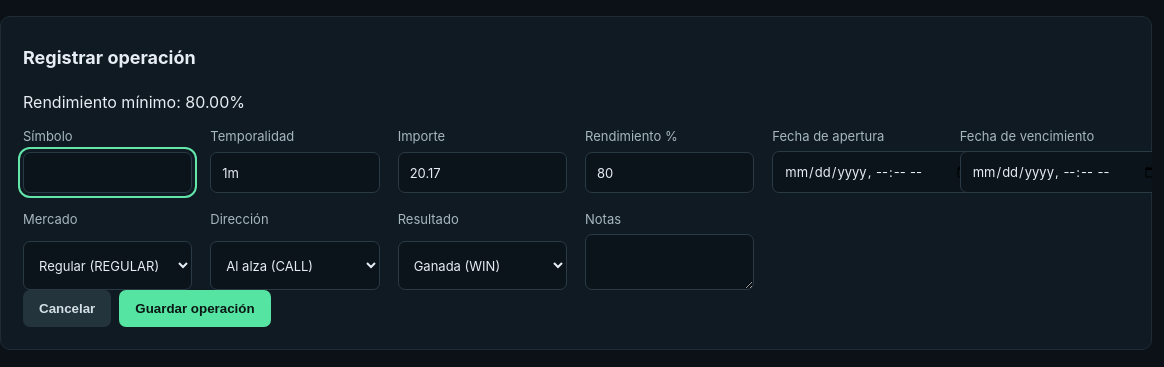
Test: REQ-002 user workflow › Guardar operación label disappears while mutation is pending, before form completion
Type "EURUSD" into the field labelled "Símbolo".
click(108, 172); type("EURUSD")  # box [23,152,192,193]
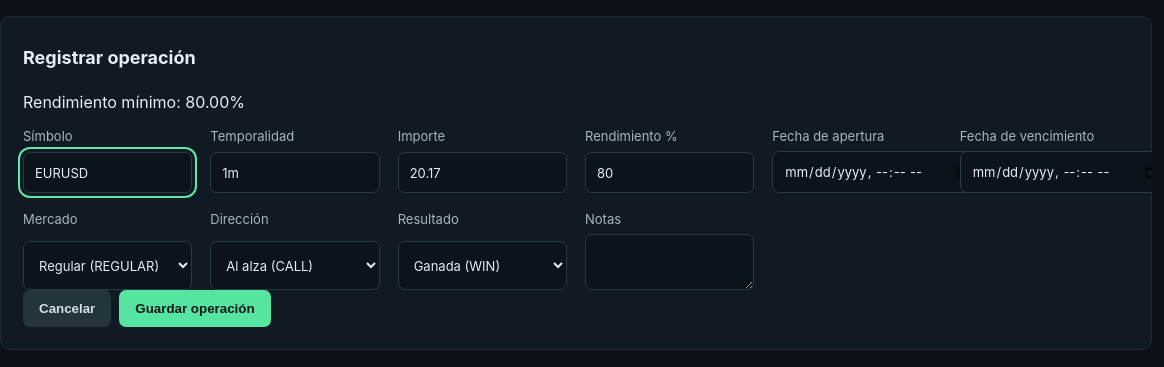
Type "2026-09-19T10:00" into the field labelled "Fecha de apertura".
click(878, 172); type("2026-09-19T10:00")  # box [772,151,983,193]
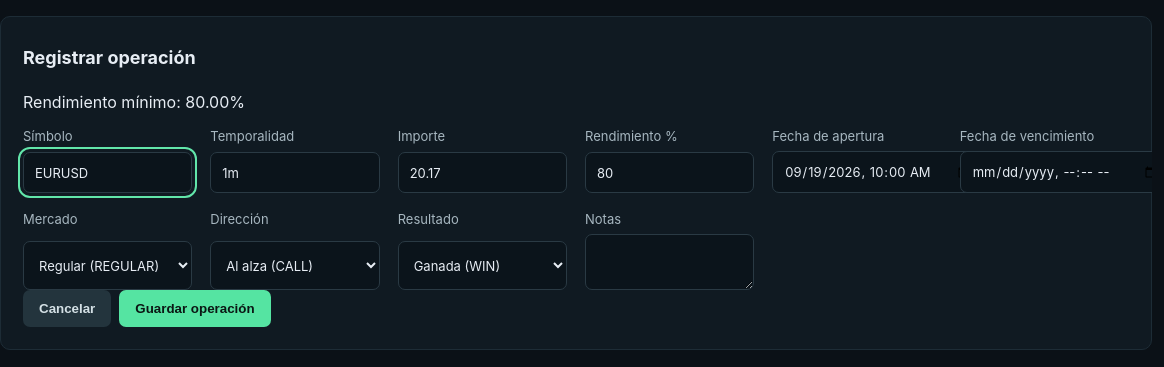
Click the button "Guardar operación".
click(195, 308)  # box [119,290,271,327]
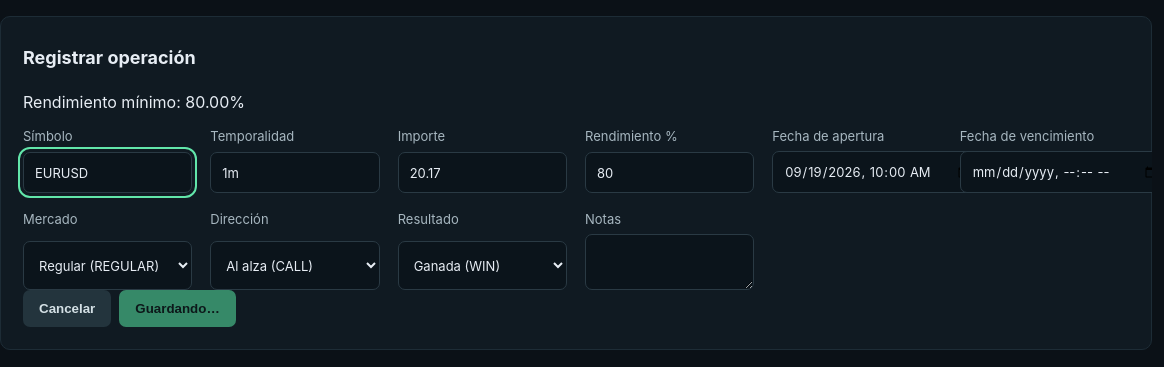
expect the heading "Registrar operación" is shown: met, box [23,47,196,68]
expect the button "Guardando…" is shown: met, box [119,290,236,327]
expect the button "Guardar operación" is gone: met
